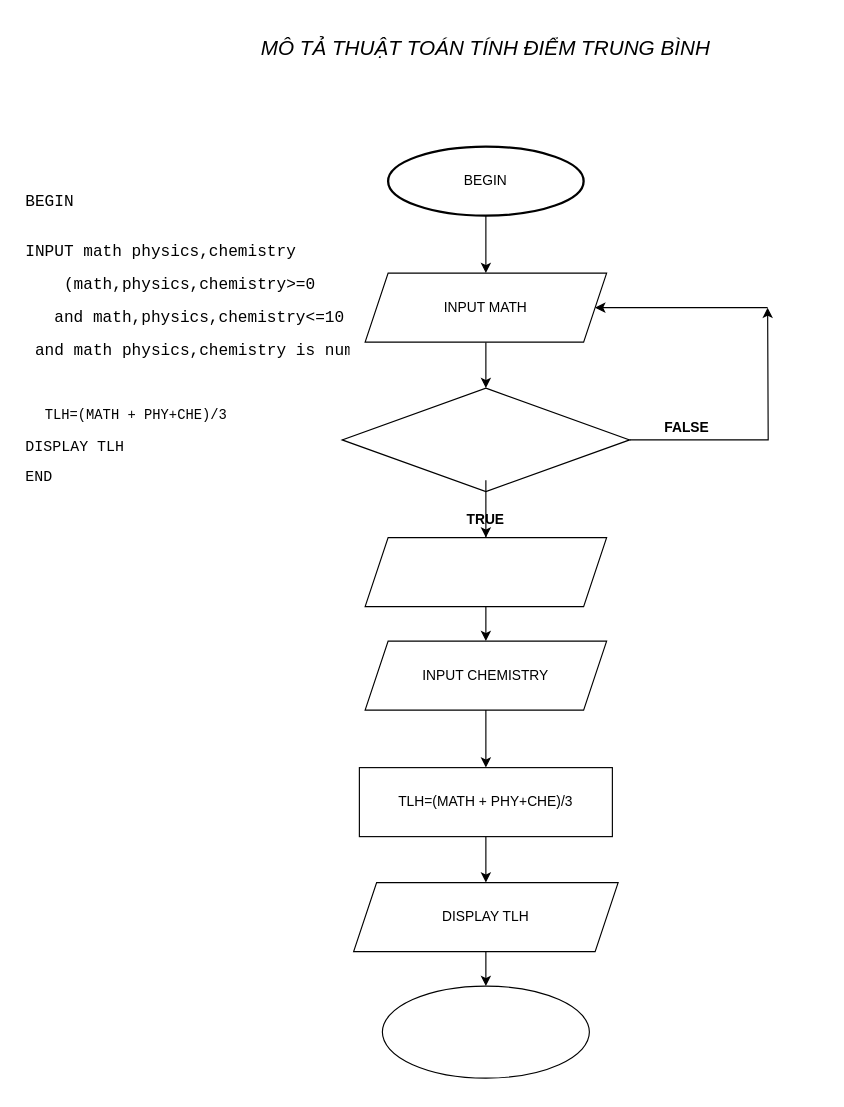
This 844x1107 diagram has some shape labels left out. The box of each missing label's shape, as (x1, y1, x2, y2) in pixels:
END: (381, 985, 589, 1078)
INPUT PHYSICS: (364, 536, 607, 607)
math>=0 and math<=10 and math is number: (341, 387, 630, 492)
